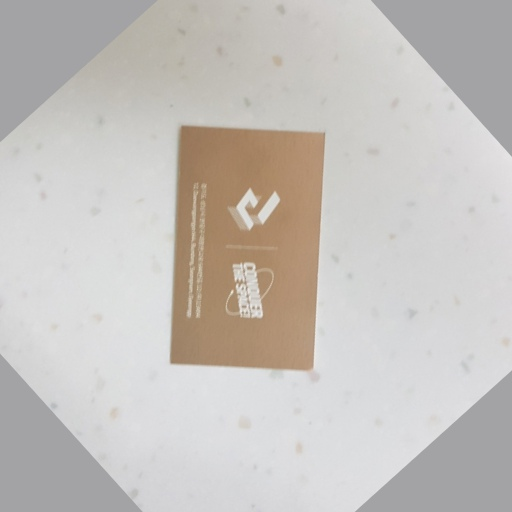Paper_2: (165, 120, 330, 370)
